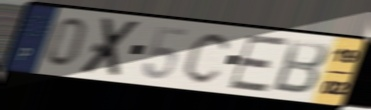0: (43, 16, 92, 70)
5: (141, 24, 191, 81)
B: (269, 37, 332, 96)
C: (181, 30, 235, 86)
E: (225, 33, 292, 94)
X: (76, 16, 145, 78)
